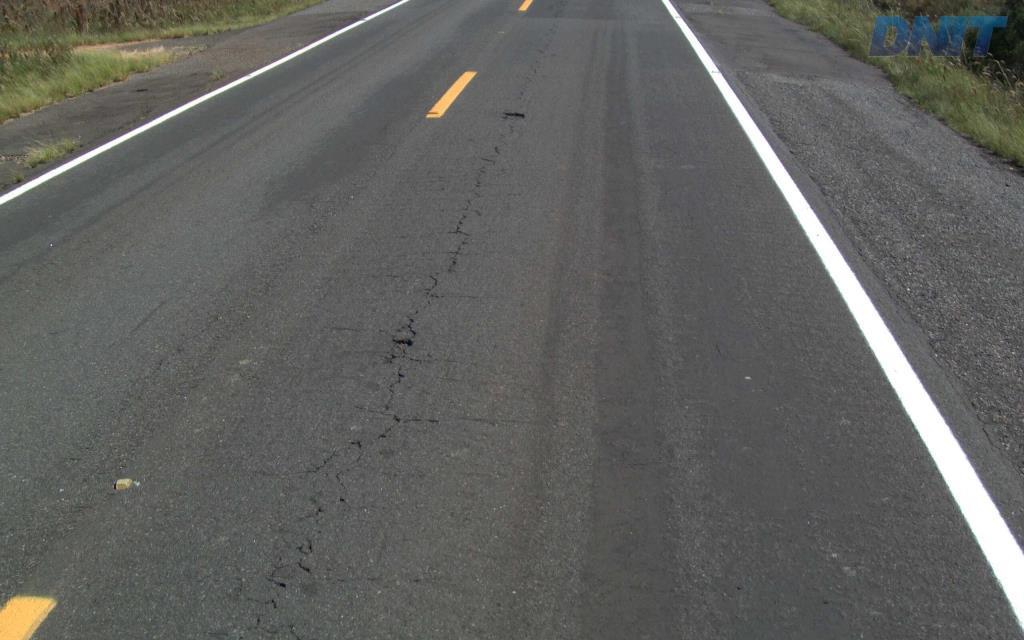crack: (384, 315, 416, 364)
